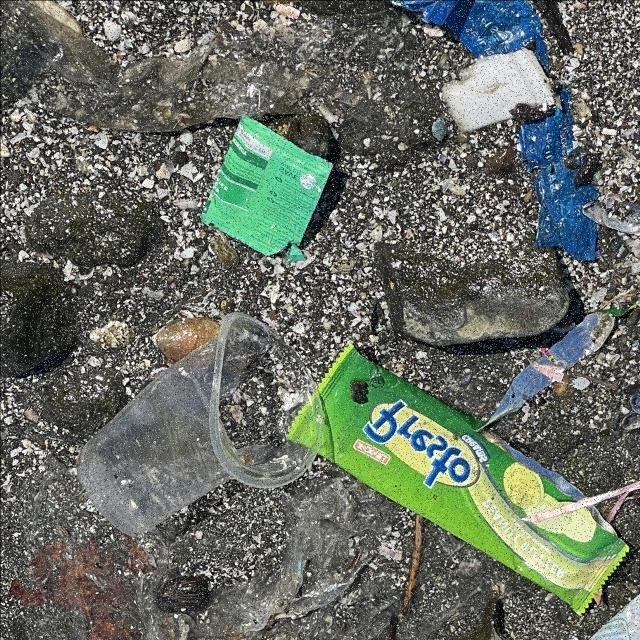plastic_waste: (284, 346, 623, 621), (82, 315, 322, 540), (203, 119, 335, 263)
